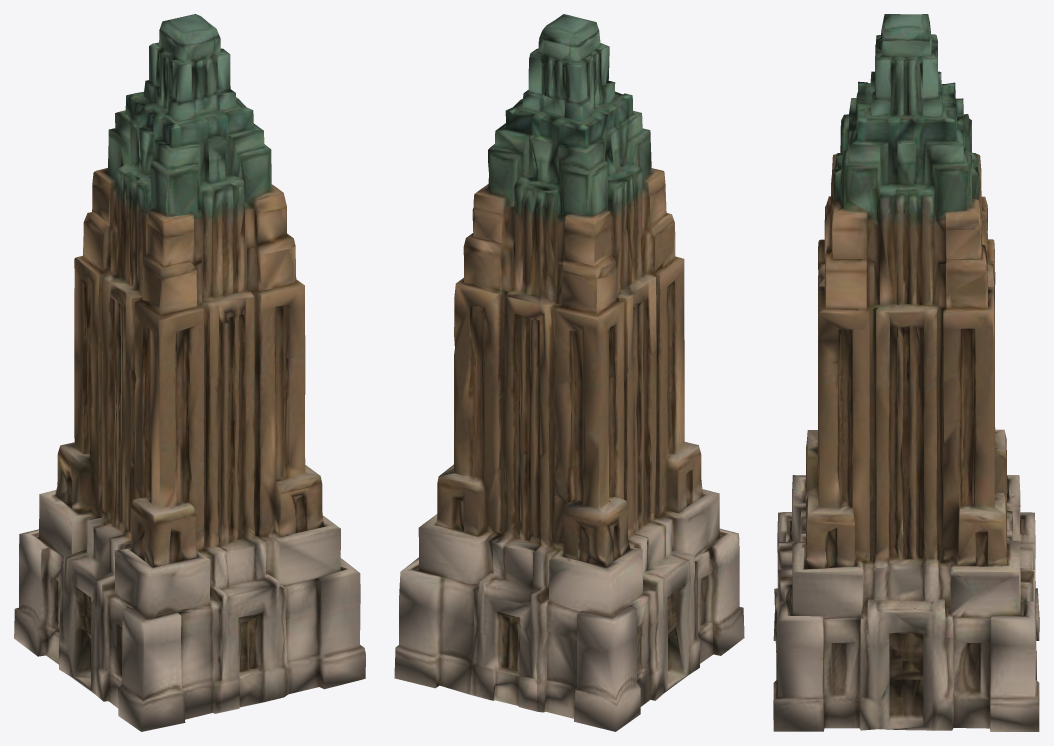
The model's file is decoTower.glb.
3 views of the same model, side by side, from view 1: azimuth 30°, elevation 25°; view 2: azimuth 150°, elevation 25°; view 3: azimuth 270°, elevation 25° (orthographic). The views are drawn at different scales.
Parts seen in each view (by area): view 1: tripo_node_6ecba9de-9089-4617-b769-1df125f47937; view 2: tripo_node_6ecba9de-9089-4617-b769-1df125f47937; view 3: tripo_node_6ecba9de-9089-4617-b769-1df125f47937.
Boxes of the visible parts, x1,y1,x2,y2 form: tripo_node_6ecba9de-9089-4617-b769-1df125f47937: [14, 14, 365, 731]; tripo_node_6ecba9de-9089-4617-b769-1df125f47937: [394, 14, 744, 731]; tripo_node_6ecba9de-9089-4617-b769-1df125f47937: [773, 14, 1039, 731].
Bounding box in the file's own units: 0.368 × 0.9996 × 0.3674.
Materials: 1 (1 with a texture image).
